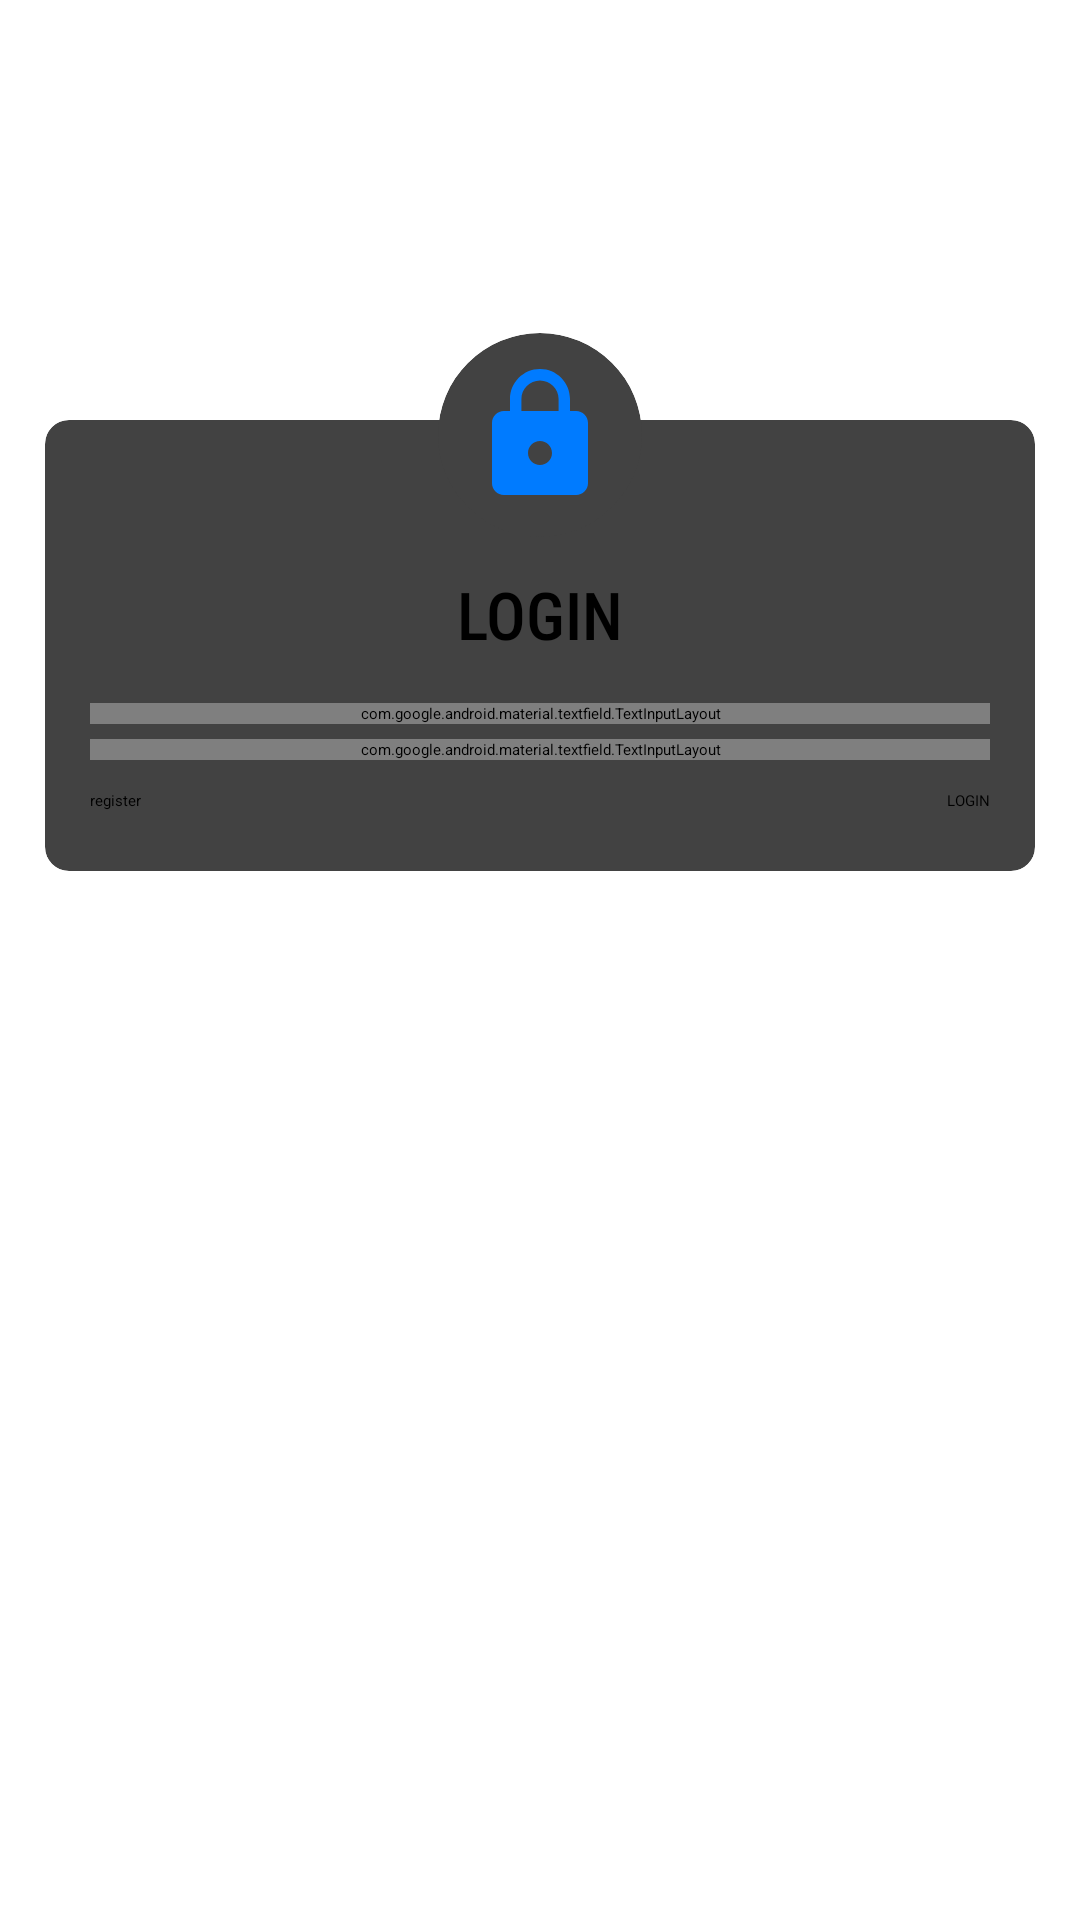

Screen size 1080×1920. Icon name, then its center in pixels as [x,y]:
lock: [540,432]
